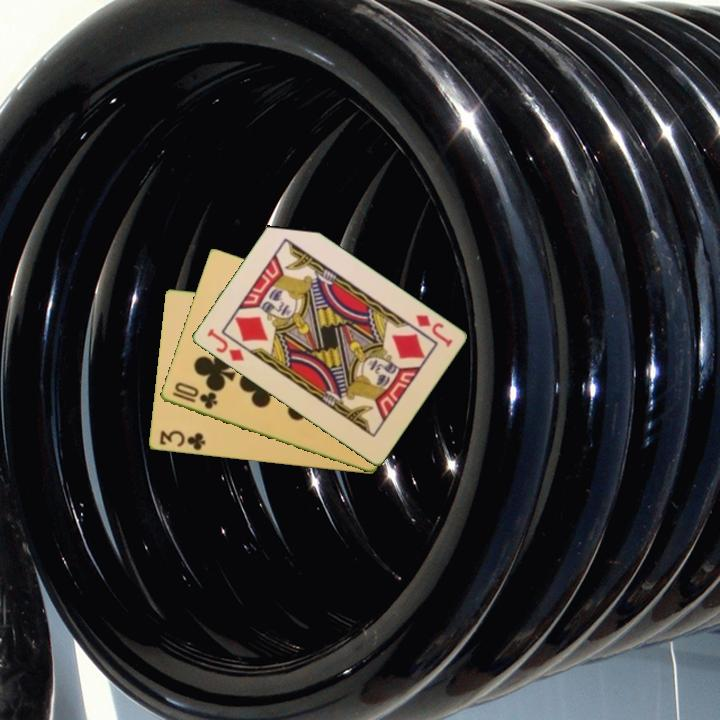10c: (168, 379, 220, 412)
3c: (156, 427, 208, 453)
Jd: (203, 325, 247, 364), (411, 311, 455, 350)
